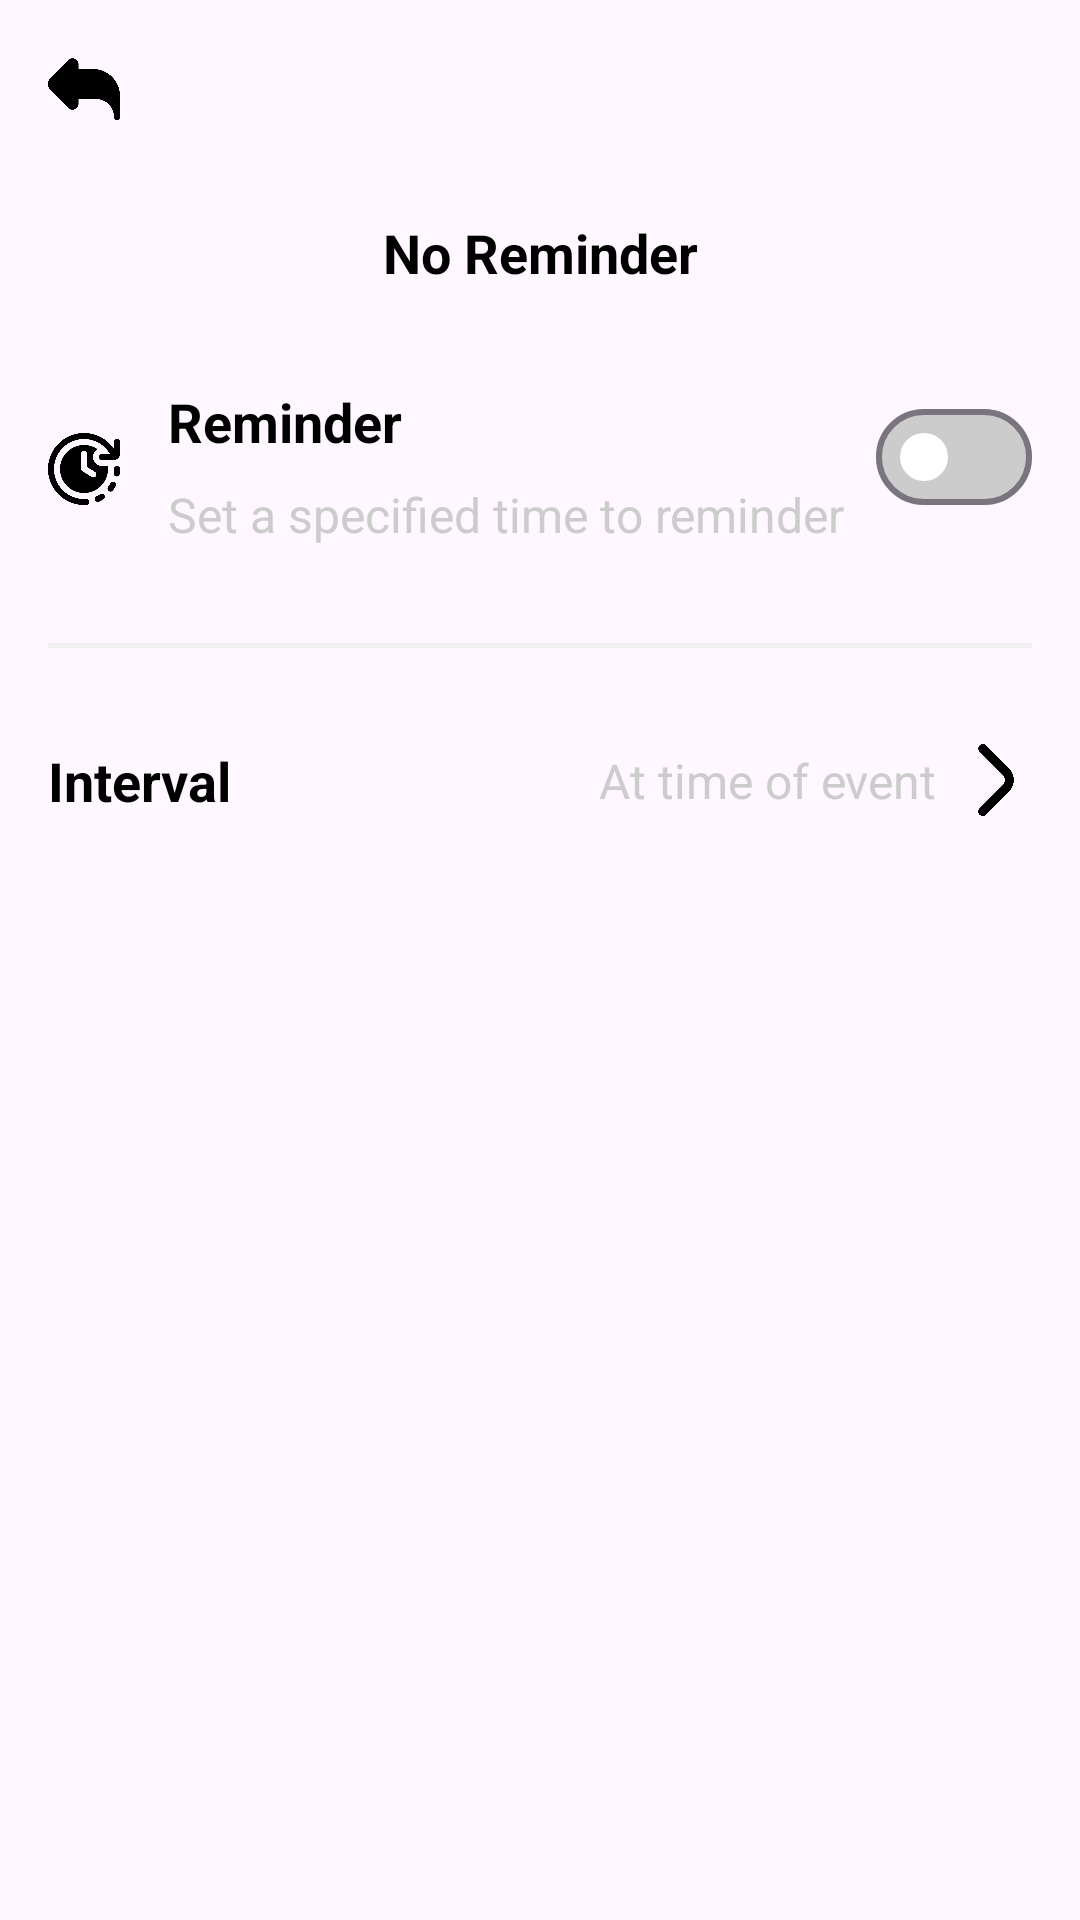

Where icons sit on this 1080px x 1920px app screen, as (x1, y1, x2, y2):
back: (48, 58, 120, 120)
